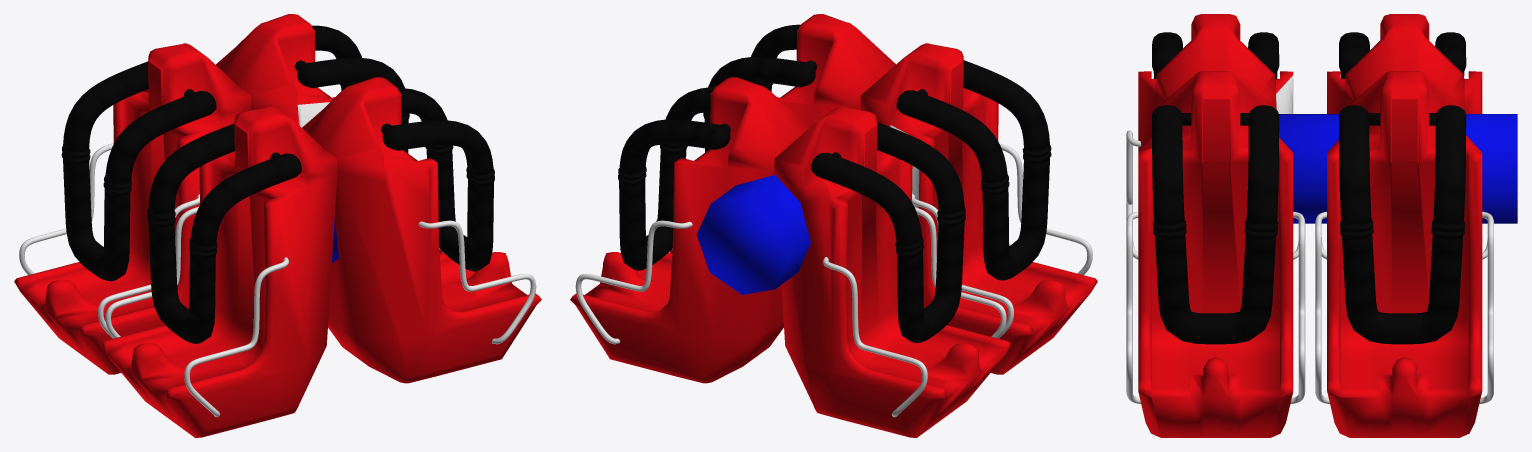
File: kmgspeedgondel.glb
The picture shows the model from 3 angles, left to right: view 1: azimuth 30°, elevation 25°; view 2: azimuth 150°, elevation 25°; view 3: azimuth 270°, elevation 25°; orthographic projection. The views are drawn at different scales.
Parts seen in each view (by area): view 1: Cylinder; view 2: Cylinder; view 3: Cylinder.
Boxes of the visible parts, x1,y1,x2,y2 form: Cylinder: (14, 14, 541, 437); Cylinder: (570, 14, 1097, 437); Cylinder: (1126, 14, 1517, 437).
Bounding box in the file's own units: 2.18 × 1.59 × 1.8.
